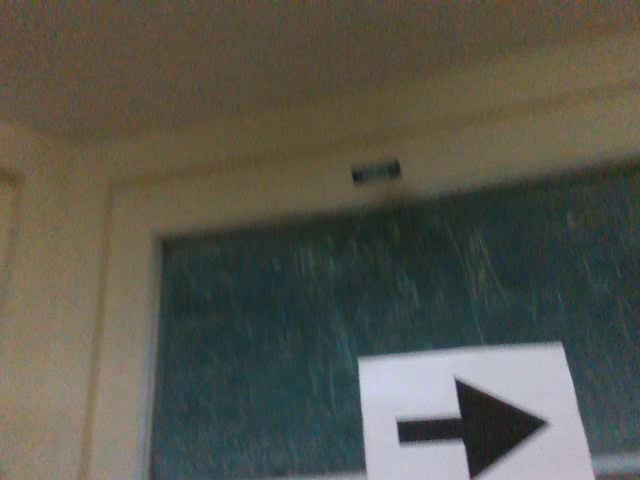Right: (394, 371, 556, 479)
